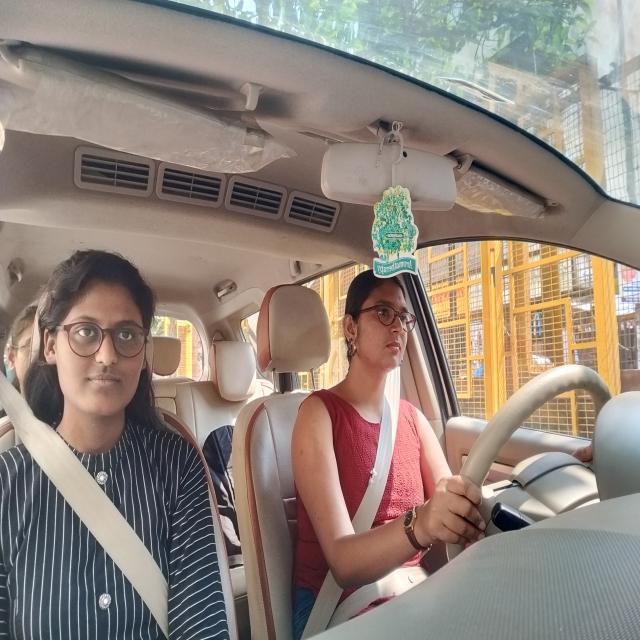person: (38, 253, 150, 423), (342, 268, 421, 378), (12, 307, 46, 386)
